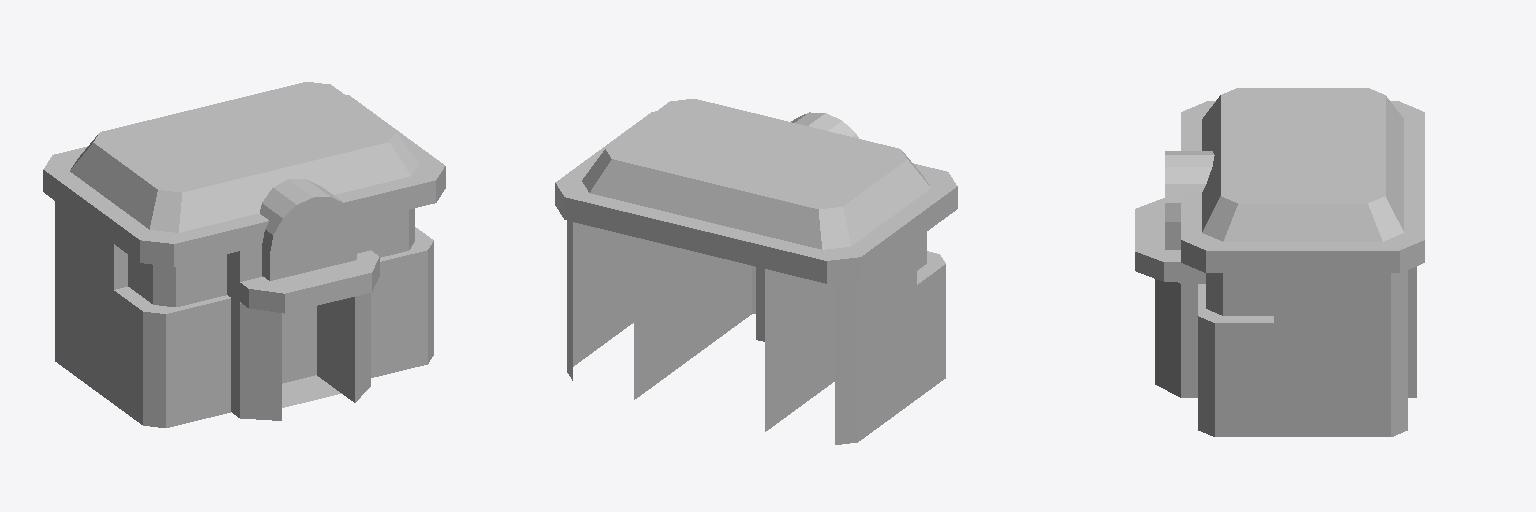
3 views of the same model, side by side, from view 1: azimuth 30°, elevation 25°; view 2: azimuth 150°, elevation 25°; view 3: azimuth 270°, elevation 25° (orthographic).
Parts seen in each view (by area): view 1: Pokémon_Center; view 2: Pokémon_Center; view 3: Pokémon_Center.
Boxes of the visible parts, <box> form: Pokémon_Center: <box>43,82,445,427</box>; Pokémon_Center: <box>555,99,957,444</box>; Pokémon_Center: <box>1135,88,1424,436</box>.
Bounding box in the file's own units: 1.21 × 0.837 × 0.9956.